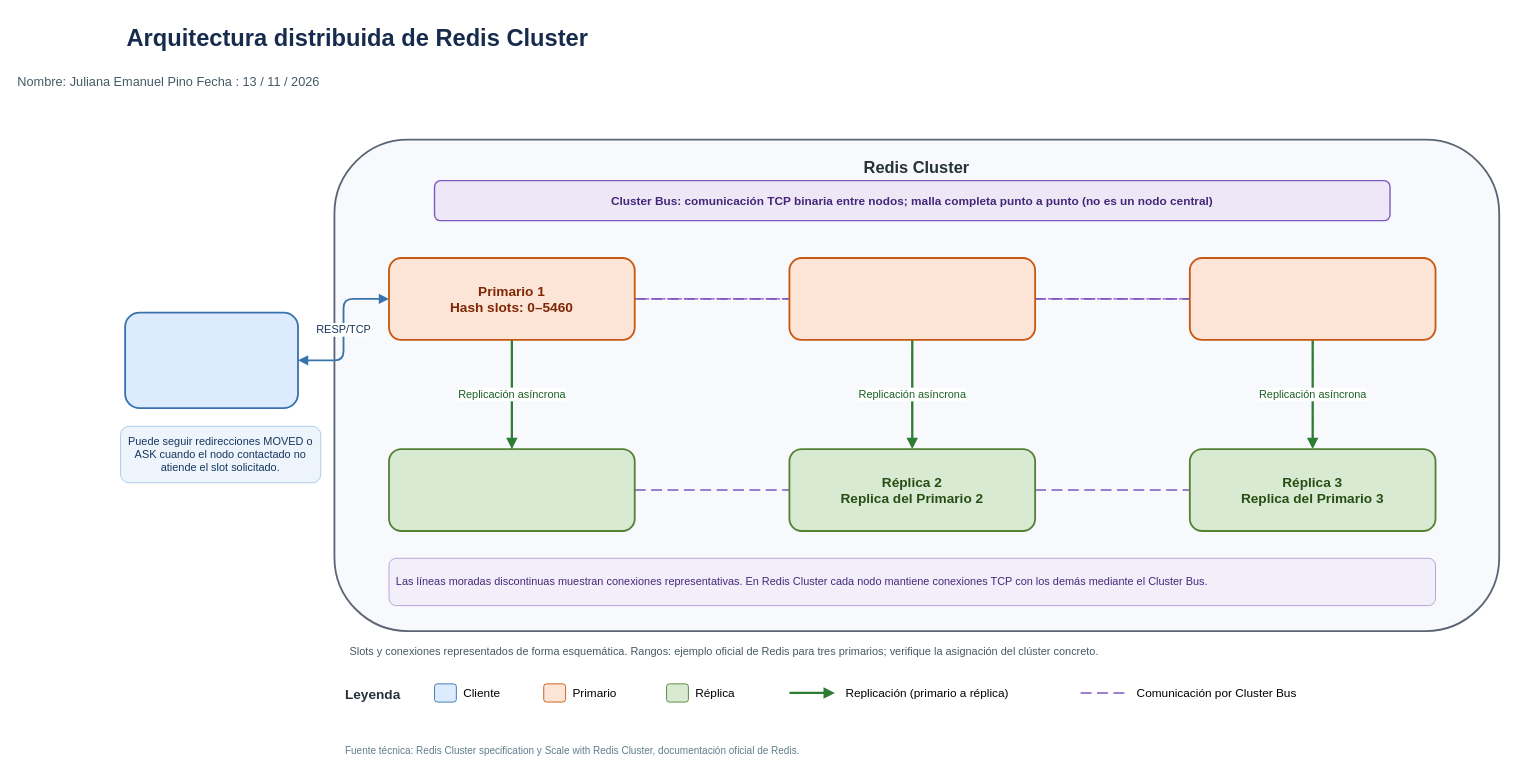
This 1515x777 diagram has some shape labels left out. Each missing label, with the centre of its shape:
Cliente Redis RESP sobre TCP Cliente compatible con Cluster: (x=211, y=360)
Primario 2 Hash slots: 5461–10922: (x=912, y=298)
Primario 3 Hash slots: 10923–16383: (x=1312, y=298)
Réplica 1 Replica del Primario 1: (x=511, y=489)
